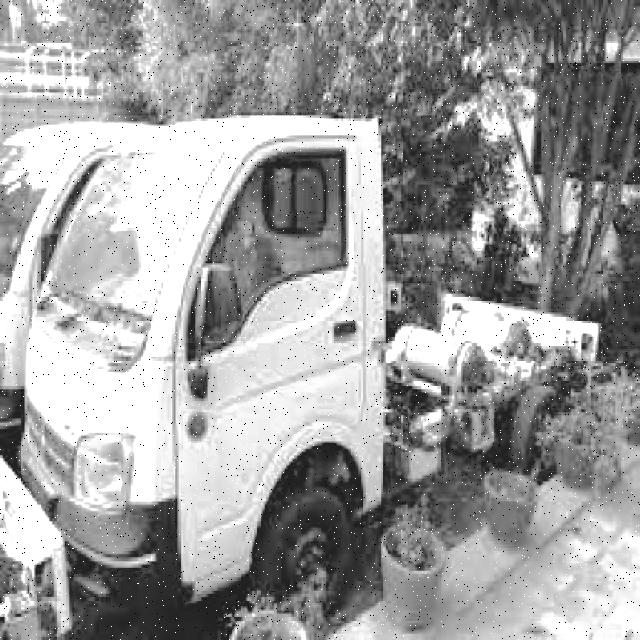LCV: (0, 118, 589, 604)
